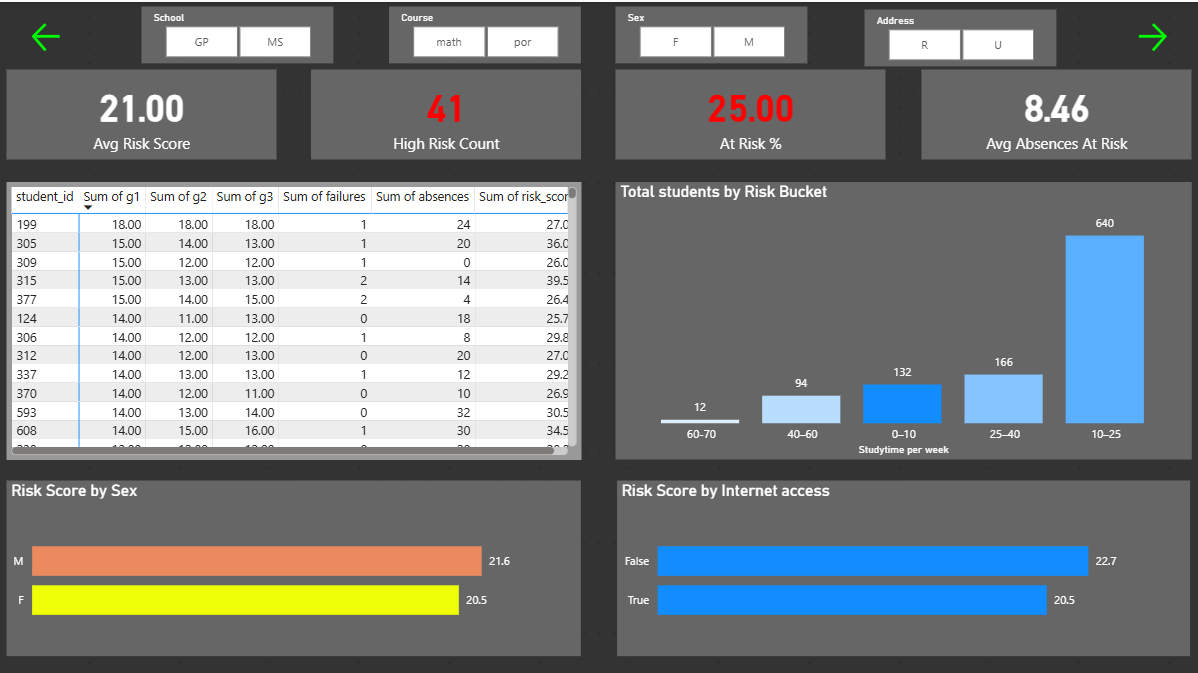

The page's visual inventory and layout, read from the dashboard file:
{"tool":"powerbi","page":{"name":"Risk Analysis","canvas":[1280,720],"ordinal":1},"visuals":[{"type":"card","fields":{"Values":["fact_grades.Avg Risk Score"]},"box":[8,72,288,96],"z":0},{"type":"card","fields":{"Values":["fact_grades.Avg Absences At Risk"]},"box":[984,72,288,96],"z":1000},{"type":"card","fields":{"Values":["fact_grades.At Risk %"]},"box":[657.6,72,288,96],"z":2000},{"type":"card","fields":{"Values":["fact_grades.High Risk Count"]},"box":[332.8,72,288,96],"z":3000},{"type":"pivotTable","title":"Pass Rate by course","fields":{"Rows":["fact_grades.student_id"],"Values":["Sum(fact_grades.g1)","Sum(fact_grades.g2)","Sum(fact_grades.g3)","Sum(fact_grades.failures)","Sum(fact_grades.absences)","Sum(fact_grades.risk_score)"]},"box":[8,192,612.8,296],"z":4000},{"type":"clusteredColumnChart","fields":{"Category":["fact_grades.Risk Bucket"],"Y":["fact_grades.Total students"]},"box":[657.6,192,614.4,296],"z":5000},{"type":"clusteredBarChart","title":"Risk Score by Sex","fields":{"Category":["dim_student.sex"],"Y":["fact_grades.Avg Risk Score"]},"box":[8,510.4,612.8,187.2],"z":6000},{"type":"clusteredBarChart","title":"Risk Score by Internet access","fields":{"Category":["dim_student.internet"],"Y":["fact_grades.Avg Risk Score"]},"box":[659.2,510.4,611.2,187.2],"z":7000},{"type":"actionButton","box":[1179.2,17.6,100.8,40],"z":8000},{"type":"actionButton","box":[0,17.6,100.8,40],"z":9000},{"type":"slicer","fields":{"Values":["dim_student.school"]},"box":[152,4.8,204.8,60.8],"z":10000},{"type":"slicer","fields":{"Values":["fact_grades.course"]},"box":[416,4.8,204.8,60.8],"z":11000},{"type":"slicer","fields":{"Values":["dim_student.sex"]},"box":[657.6,4.8,204.8,60.8],"z":12000},{"type":"slicer","fields":{"Values":["dim_student.address"]},"box":[923.2,8,204.8,60.8],"z":13000}]}

Visuals, with their boxes in screenshot pixels (x1, y1, x2, y2), scaled from the page's 1280x720 canvas onto the 1198x673 screenshot:
card - fact_grades.Avg Risk Score: (7, 67, 277, 157)
card - fact_grades.Avg Absences At Risk: (921, 67, 1191, 157)
card - fact_grades.At Risk %: (615, 67, 885, 157)
card - fact_grades.High Risk Count: (311, 67, 581, 157)
"Pass Rate by course" pivotTable: (7, 179, 581, 456)
clusteredColumnChart - fact_grades.Risk Bucket x fact_grades.Total students: (615, 179, 1191, 456)
"Risk Score by Sex" clusteredBarChart: (7, 477, 581, 652)
"Risk Score by Internet access" clusteredBarChart: (617, 477, 1189, 652)
actionButton: (1104, 16, 1197, 54)
actionButton: (0, 16, 94, 54)
slicer - dim_student.school: (142, 4, 334, 61)
slicer - fact_grades.course: (389, 4, 581, 61)
slicer - dim_student.sex: (615, 4, 807, 61)
slicer - dim_student.address: (864, 7, 1056, 64)
